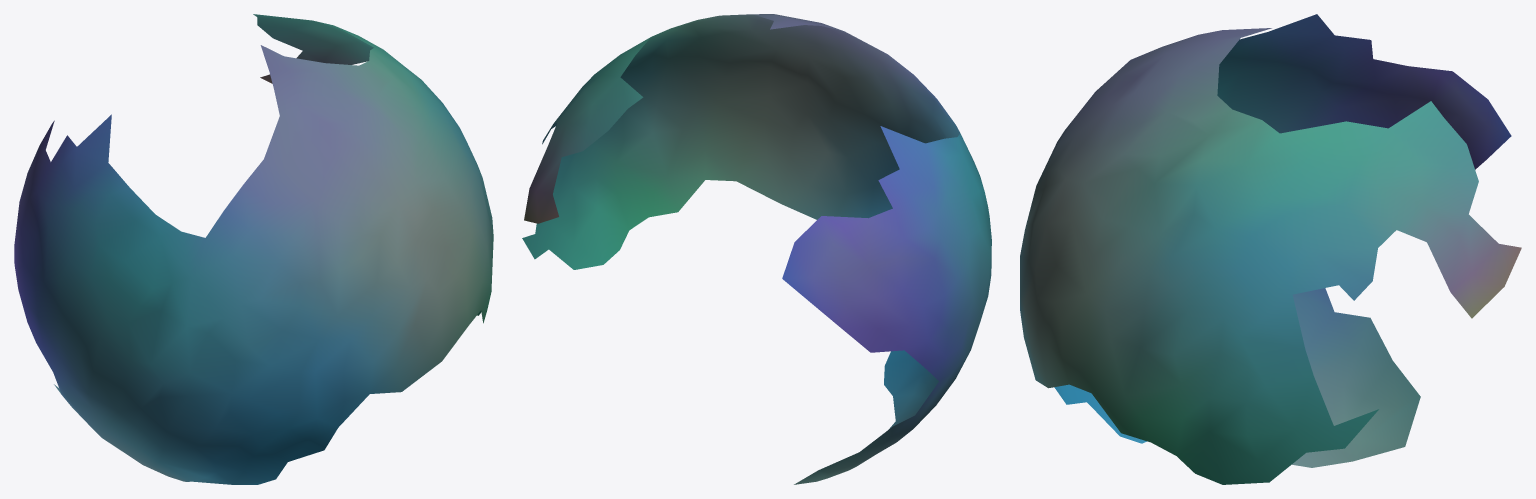
Rendered from space-nebulae-nebula_v5.glb.
3 views of the same model, side by side, from view 1: azimuth 30°, elevation 25°; view 2: azimuth 150°, elevation 25°; view 3: azimuth 270°, elevation 25° (orthographic). The views are drawn at different scales.
Visible parts, largest first — view 1: Nebula_v5; view 2: Nebula_v5; view 3: Nebula_v5.
Boxes of the visible parts, left/top/right/bottom form: Nebula_v5: left=14, top=14, right=493, bottom=484; Nebula_v5: left=522, top=14, right=991, bottom=484; Nebula_v5: left=1020, top=14, right=1521, bottom=484.
Bounding box in the file's own units: 0.5 × 0.4798 × 0.4496.
